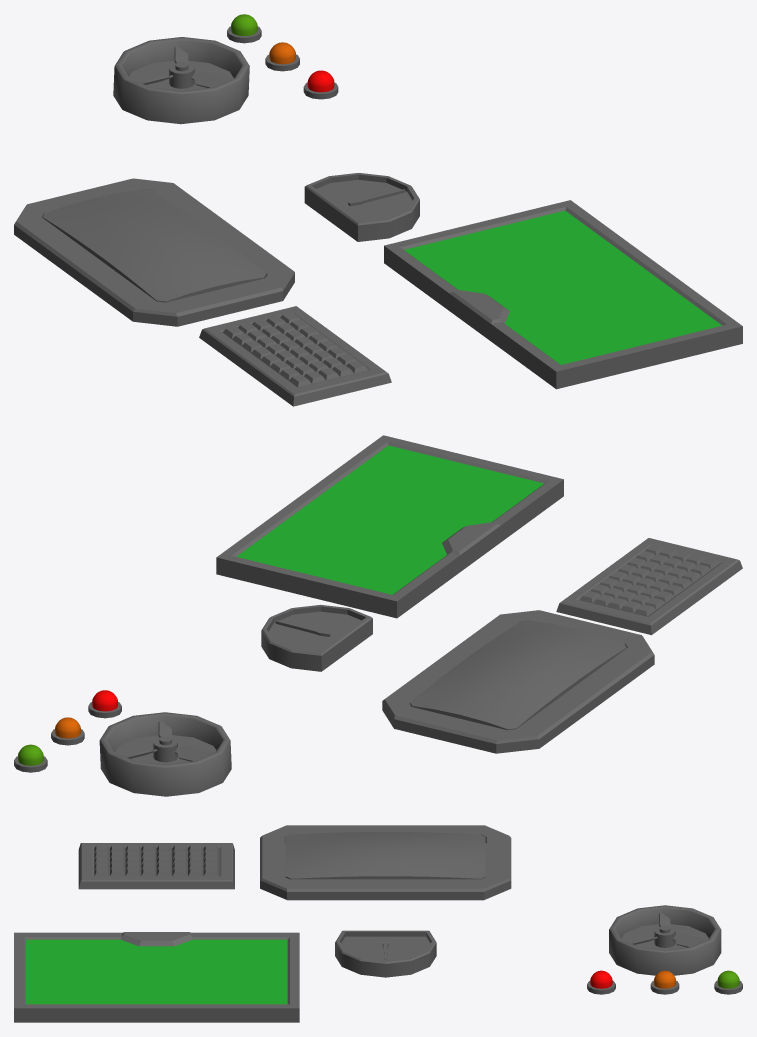
Rendered from Desk_Instruments.FBX.
3 views of the same model, one above another, from view 1: azimuth 30°, elevation 25°; view 2: azimuth 150°, elevation 25°; view 3: azimuth 270°, elevation 25° (orthographic). The views are drawn at different scales.
Visible parts, largest first — view 1: DeskScreen, Pushpad, PushpadOuter, Keyboard, FanHolder, Gauge, Lights, DeskFan; view 2: DeskScreen, Pushpad, PushpadOuter, Keyboard, FanHolder, Gauge, Lights, DeskFan; view 3: DeskScreen, Pushpad, PushpadOuter, Keyboard, FanHolder, Gauge, Lights, DeskFan.
Part boxes in pixels (x1,y1,x2,y2): DeskScreen: [384, 200, 742, 389]; Pushpad: [42, 189, 266, 302]; PushpadOuter: [14, 178, 294, 326]; Keyboard: [199, 306, 391, 406]; FanHolder: [113, 37, 249, 124]; Gauge: [304, 173, 419, 241]; Lights: [227, 14, 338, 99]; DeskFan: [140, 46, 231, 88]; DeskScreen: [216, 435, 563, 618]; Pushpad: [410, 620, 626, 730]; PushpadOuter: [382, 610, 654, 753]; Keyboard: [556, 538, 742, 635]; FanHolder: [99, 712, 231, 796]; Gauge: [261, 604, 372, 671]; Lights: [14, 690, 121, 772]; DeskFan: [124, 721, 213, 762]; DeskScreen: [14, 932, 299, 1022]; Pushpad: [285, 832, 485, 879]; PushpadOuter: [260, 825, 511, 900]; Keyboard: [78, 843, 234, 889]; FanHolder: [609, 905, 721, 975]; Gauge: [335, 930, 436, 977]; Lights: [587, 970, 742, 994]; DeskFan: [630, 912, 706, 947].
Size of the model in its own units: 17.33 by 1.28 by 29.68.
